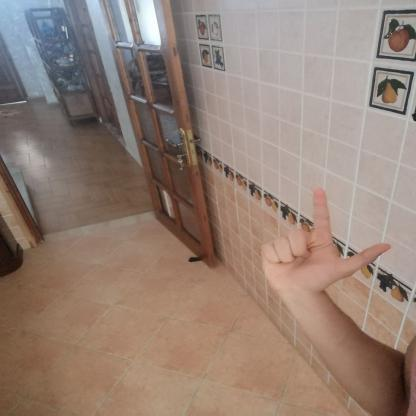LAAM: (245, 182, 400, 302)
